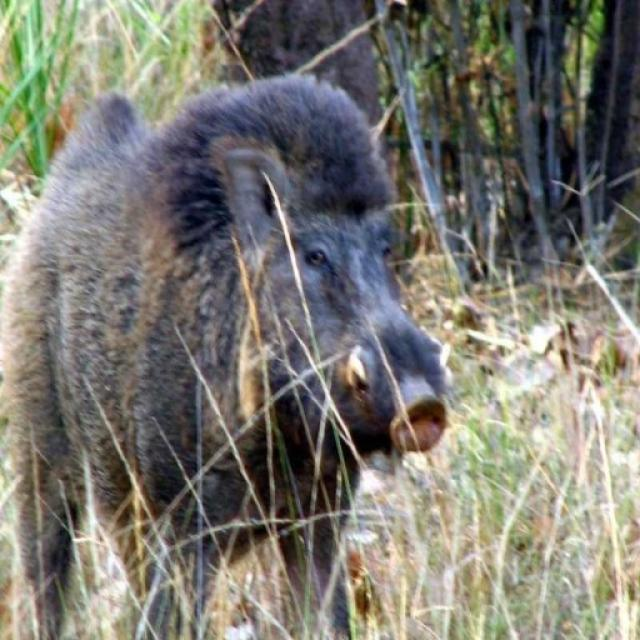pig: (0, 77, 466, 609)
